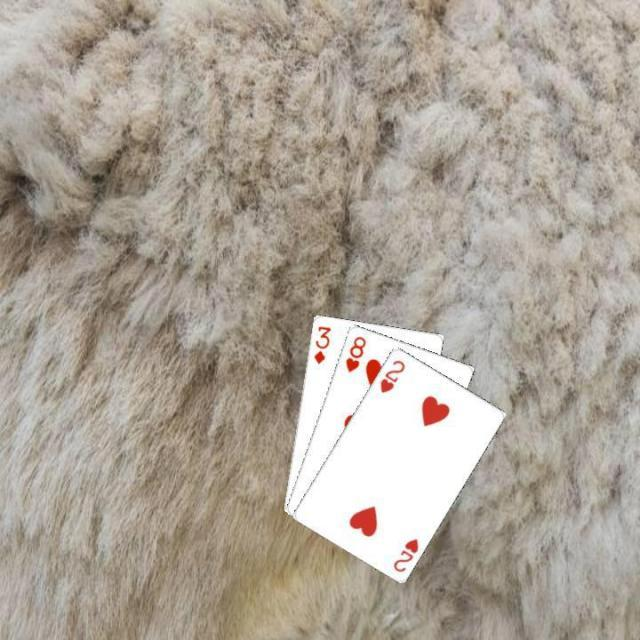2H: (376, 356, 407, 395), (390, 535, 421, 574)
3D: (310, 322, 333, 366)
8H: (341, 332, 367, 374)
